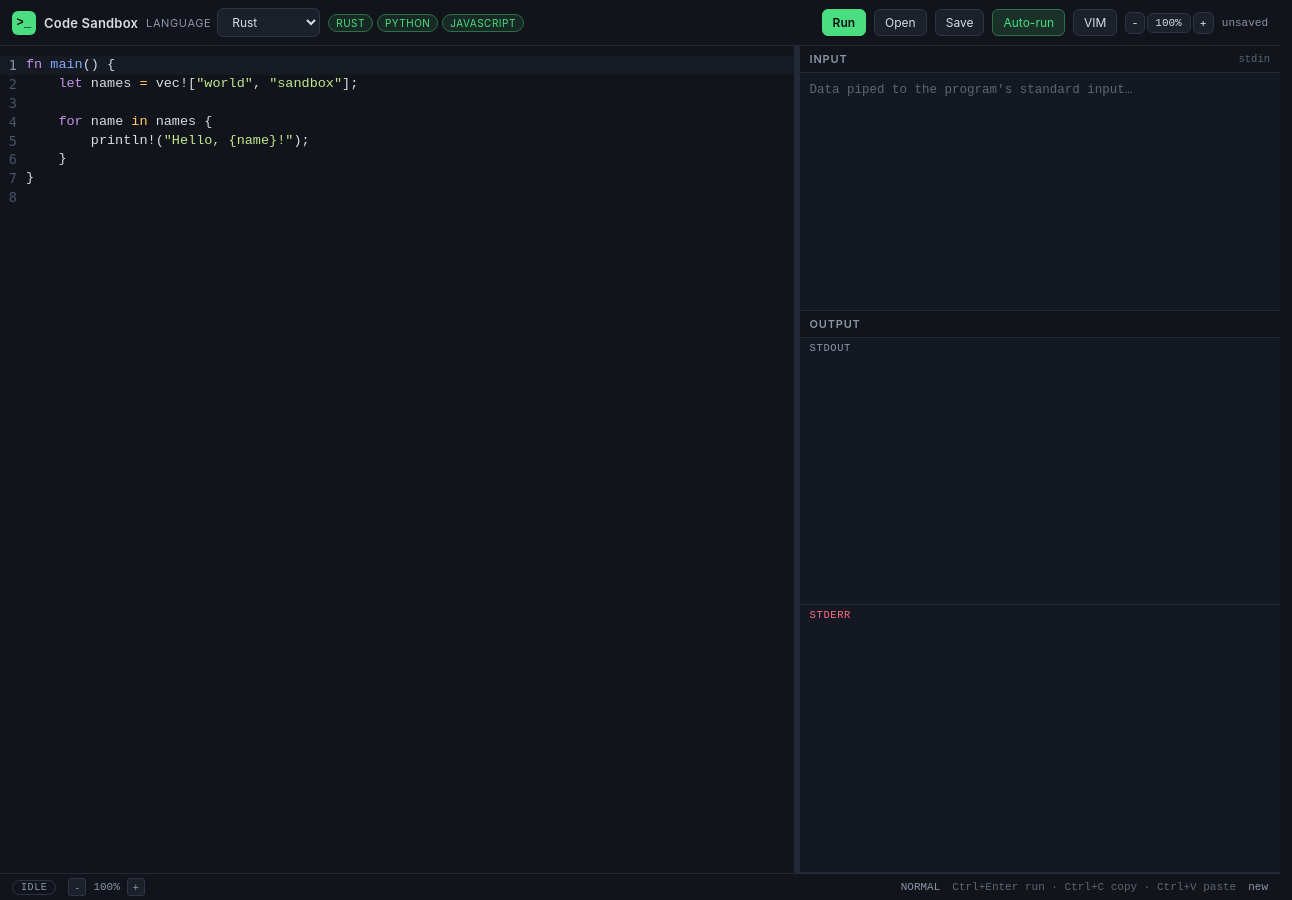
Test: Code Sandbox › saves through the native dialog and clears the unsaved indicator
Click the button "Save" at coordinates (960, 22), box [935,9,984,36]
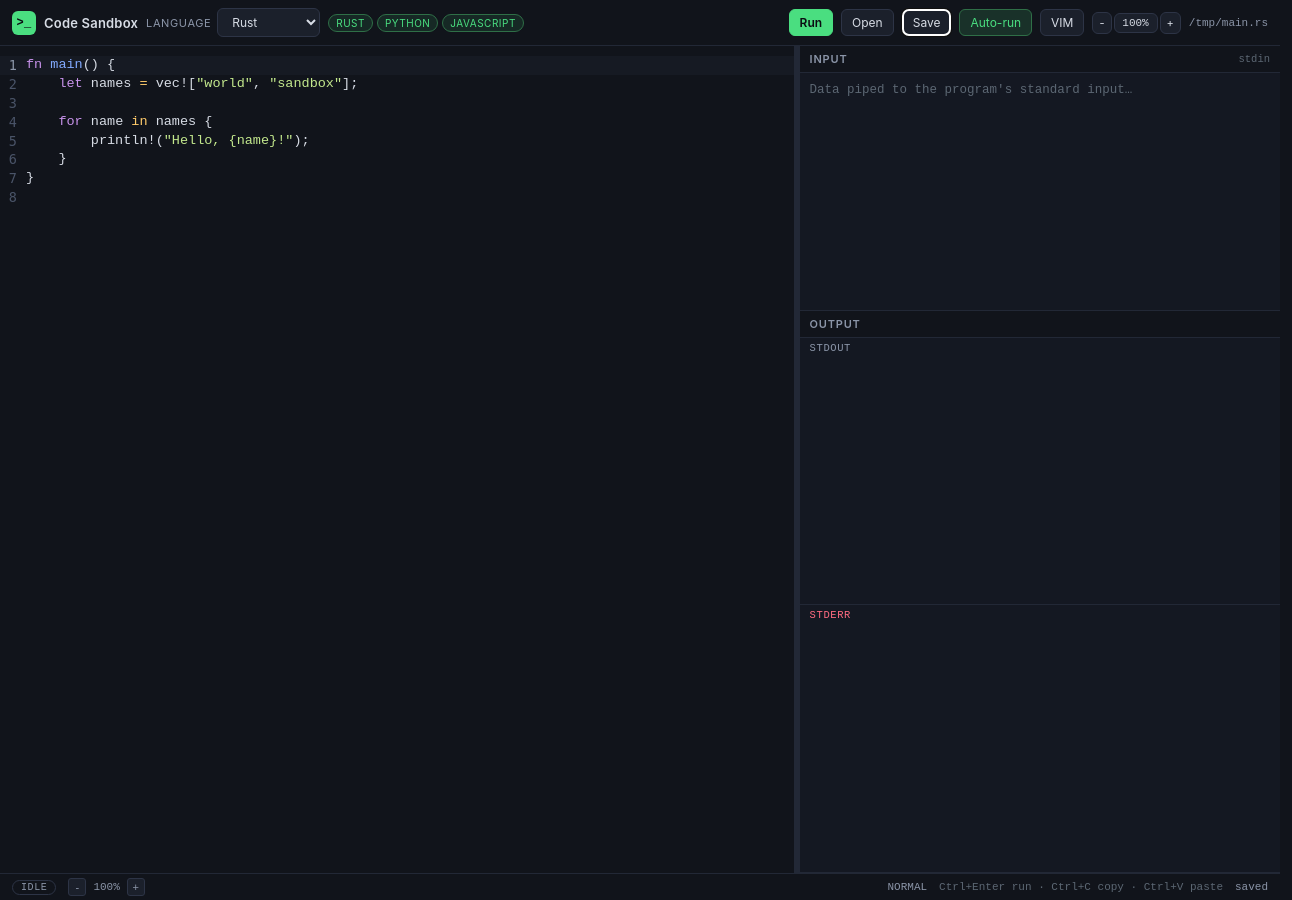
expect the text "/tmp/main.rs" is shown: met, box [1189,16,1268,28]
